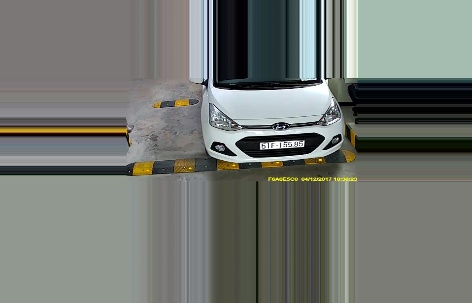plate: (257, 137, 304, 152)
